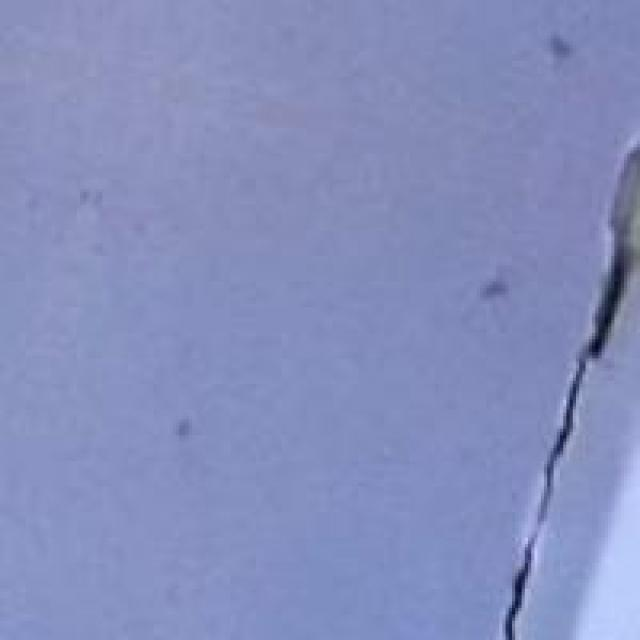crack: (461, 173, 637, 637)
